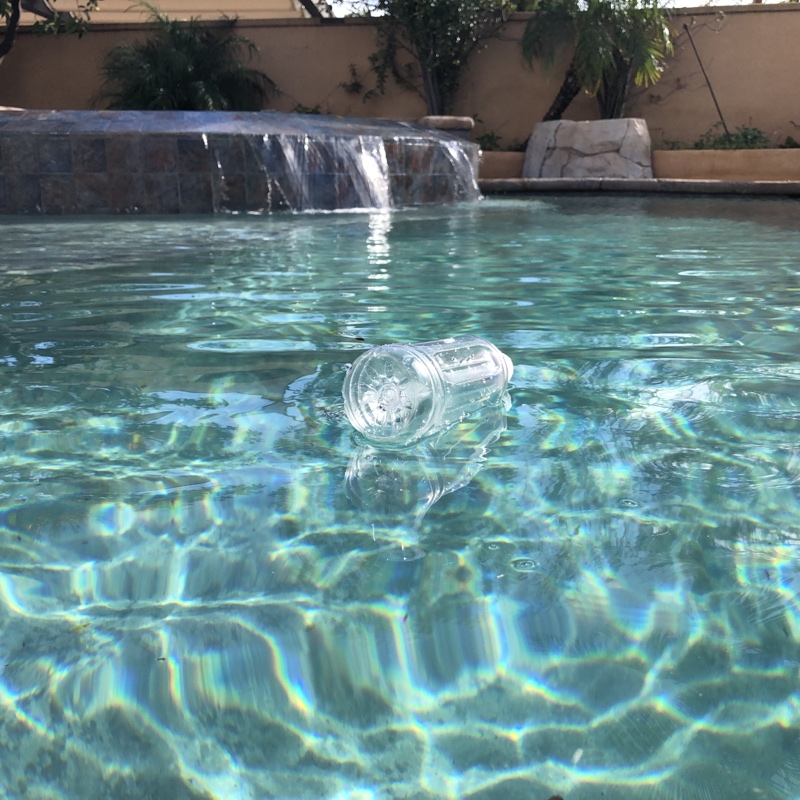Plastic Bottle: (335, 327, 520, 456)
